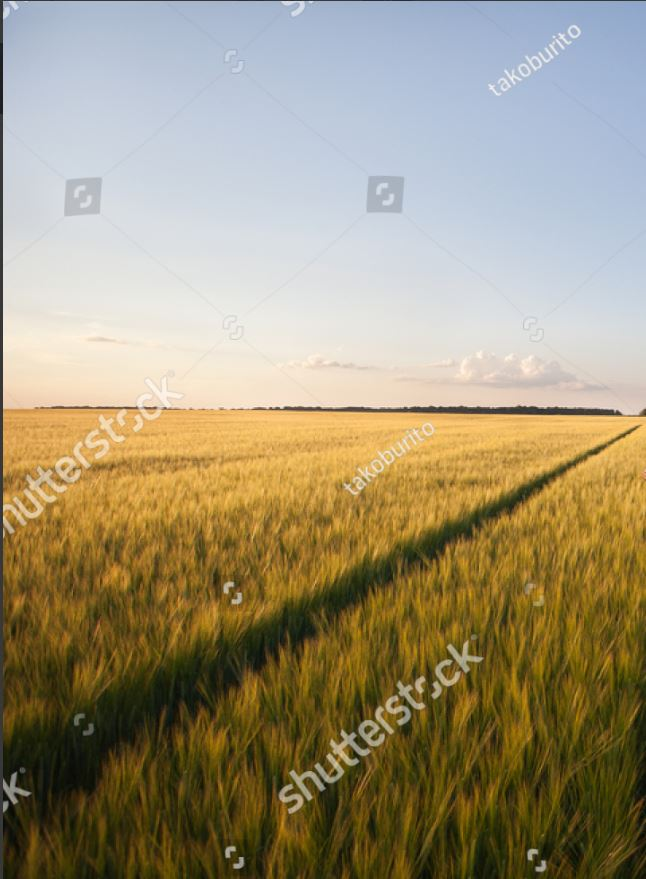Wheat: (101, 475, 294, 589)
